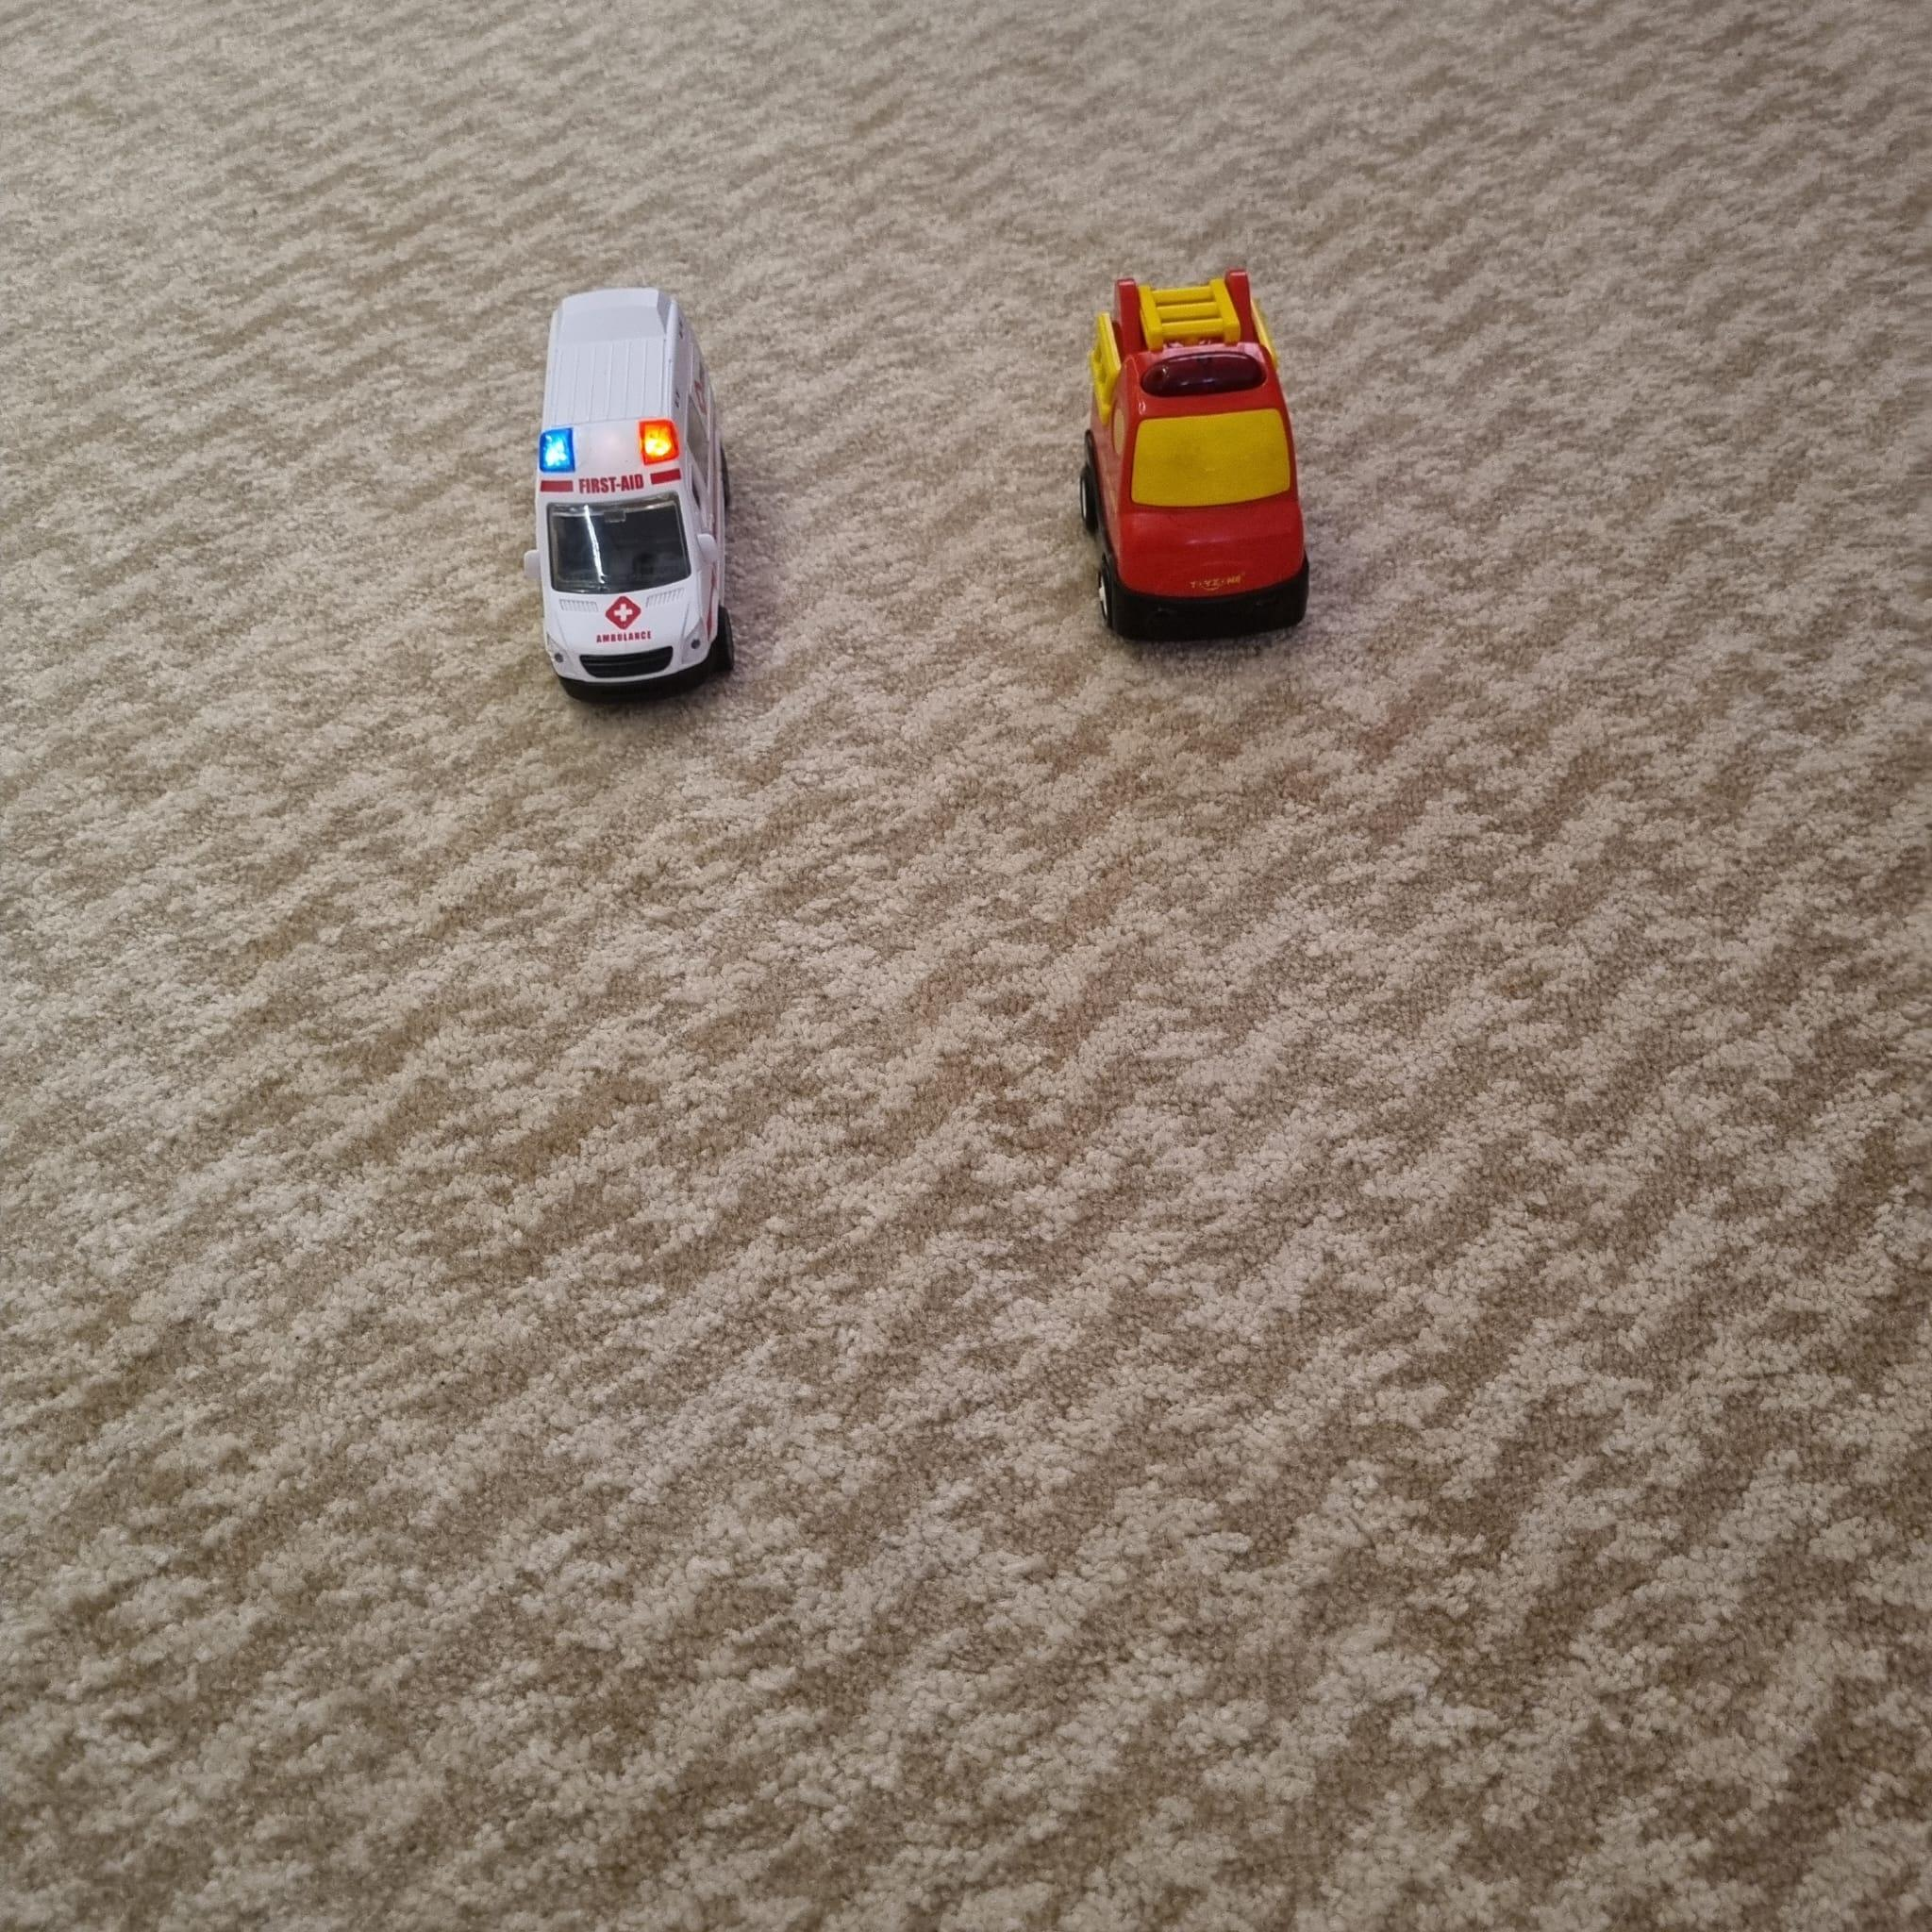ambulance_on: (524, 283, 738, 709)
firetruck_off: (1079, 267, 1311, 639)
